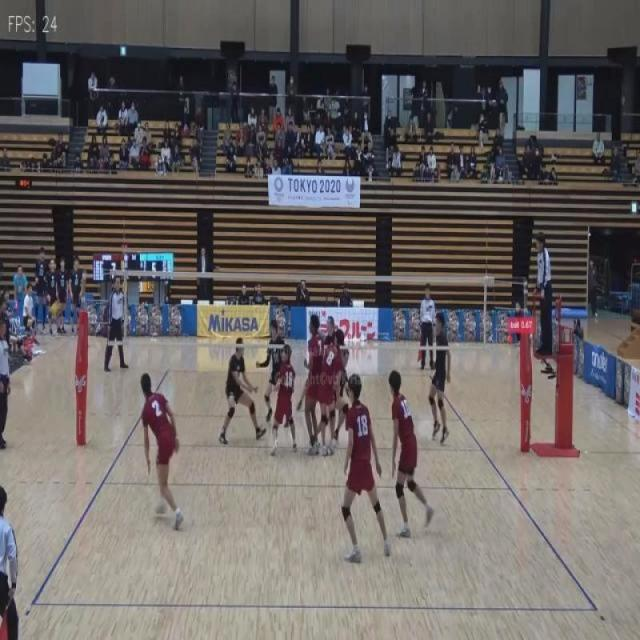volleyball: (50, 298, 61, 318)
